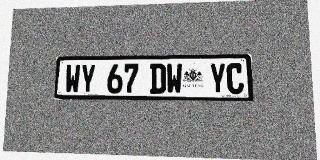6: (107, 64, 123, 94)
7: (123, 64, 139, 94)
C: (226, 63, 244, 94)
D: (150, 64, 166, 94)
W: (166, 63, 182, 94), (65, 64, 80, 93)
Y: (209, 63, 226, 94), (80, 64, 96, 93)
